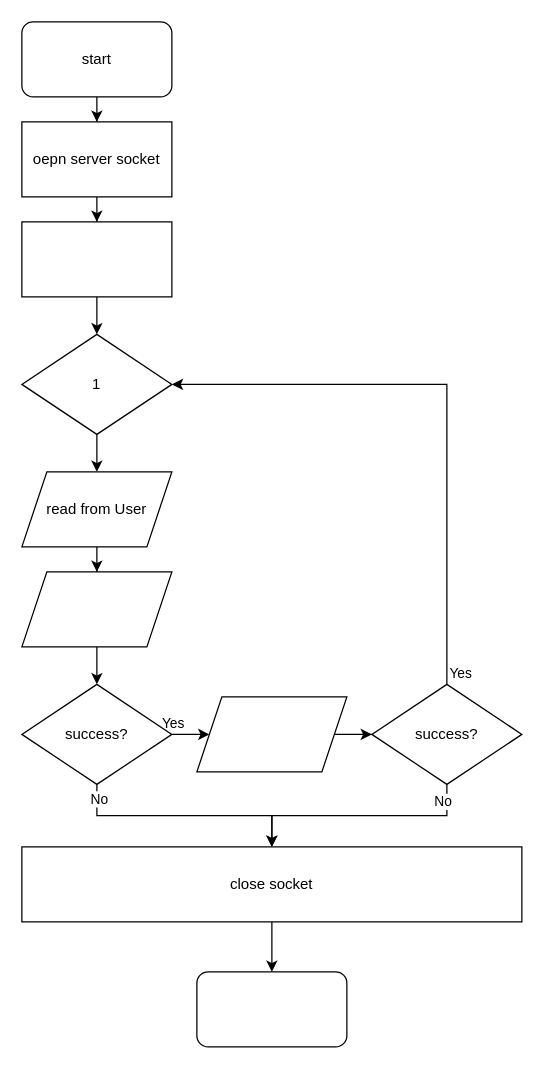
Image size: 544x1069. Some labels were removed from this diagram. The box of each missing label's shape, as (x1, y1, x2, y2) in pixels:
connect to server: (21, 221, 172, 297)
end: (196, 971, 347, 1047)
read from Server: (196, 696, 347, 772)
write input to Server: (21, 571, 172, 647)
